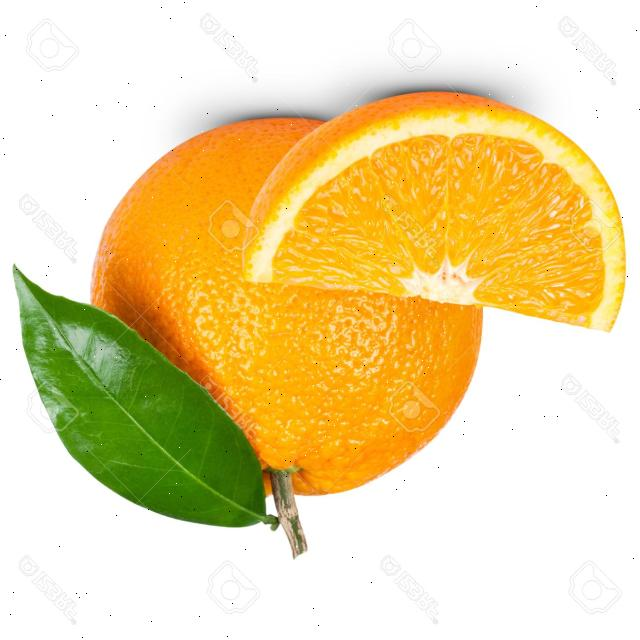Jeruk: (90, 116, 483, 501), (240, 90, 626, 334)
